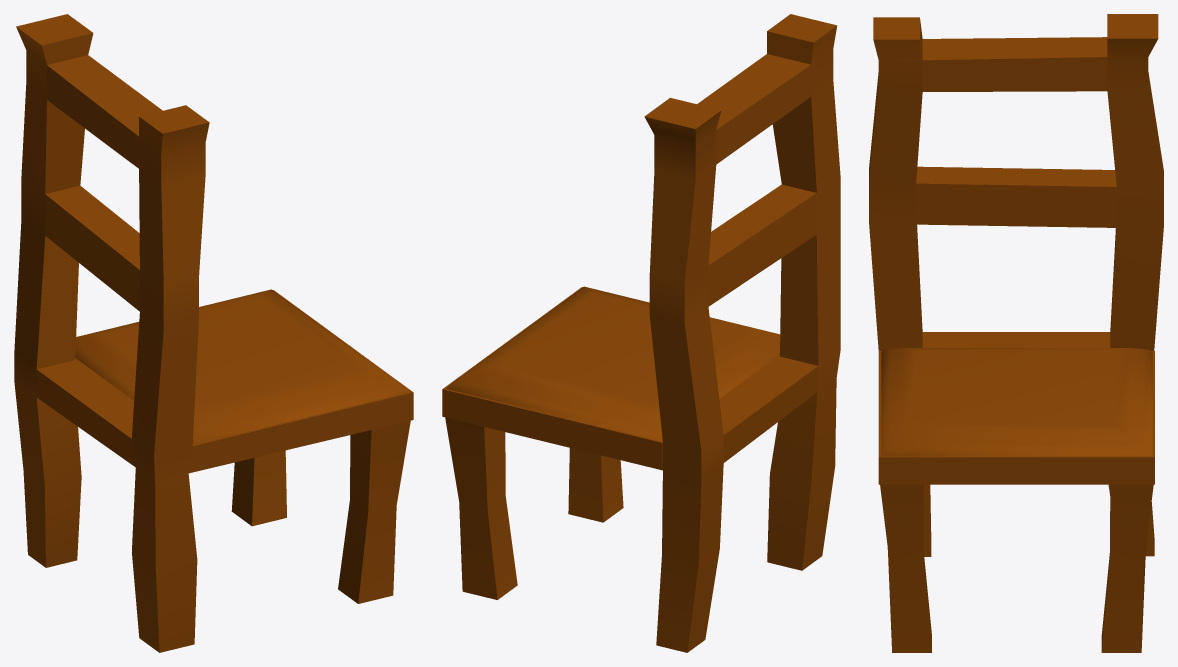
Rendered from silla.fbx.
The picture shows the model from 3 angles, left to right: view 1: azimuth 30°, elevation 25°; view 2: azimuth 150°, elevation 25°; view 3: azimuth 270°, elevation 25°; orthographic projection.
Visible parts, largest first — view 1: polySurface70; view 2: polySurface70; view 3: polySurface70.
Boxes of the visible parts, x1,y1,x2,y2 form: polySurface70: (14,14,413,652); polySurface70: (442,14,840,652); polySurface70: (869,14,1163,652).
Size of the model in its own units: 57.38 by 112 by 57.17.
